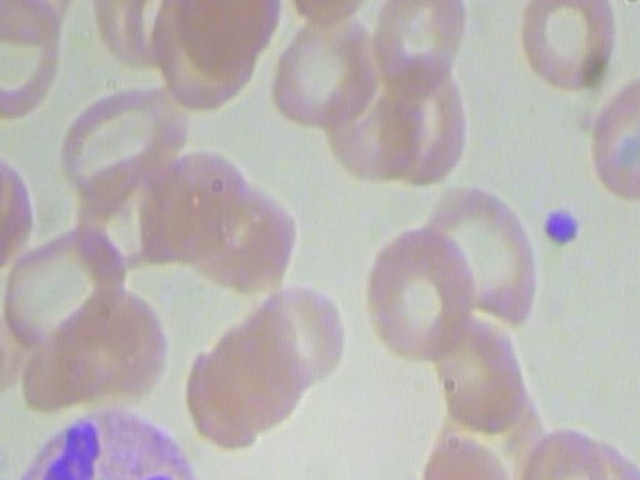Platelets: (537, 200, 588, 254)
RBC: (52, 67, 190, 213), (424, 178, 542, 332), (364, 221, 481, 369), (0, 220, 131, 350), (265, 5, 388, 135), (429, 304, 535, 436), (364, 0, 479, 93), (506, 0, 624, 89), (580, 72, 640, 212), (402, 416, 520, 480), (521, 422, 613, 480)
WBC: (0, 390, 236, 480)
